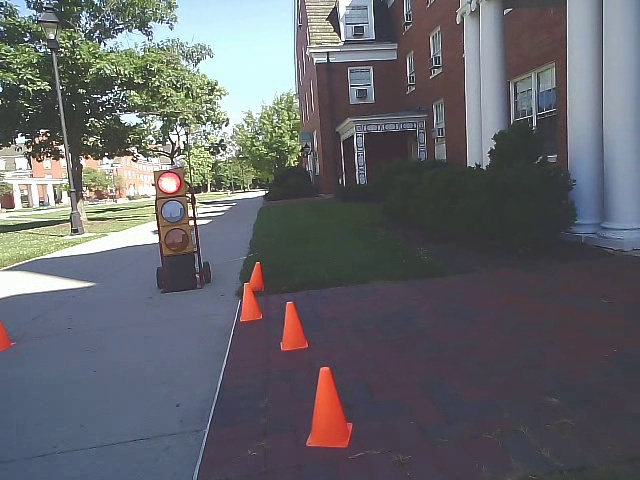red: (152, 169, 193, 254)
